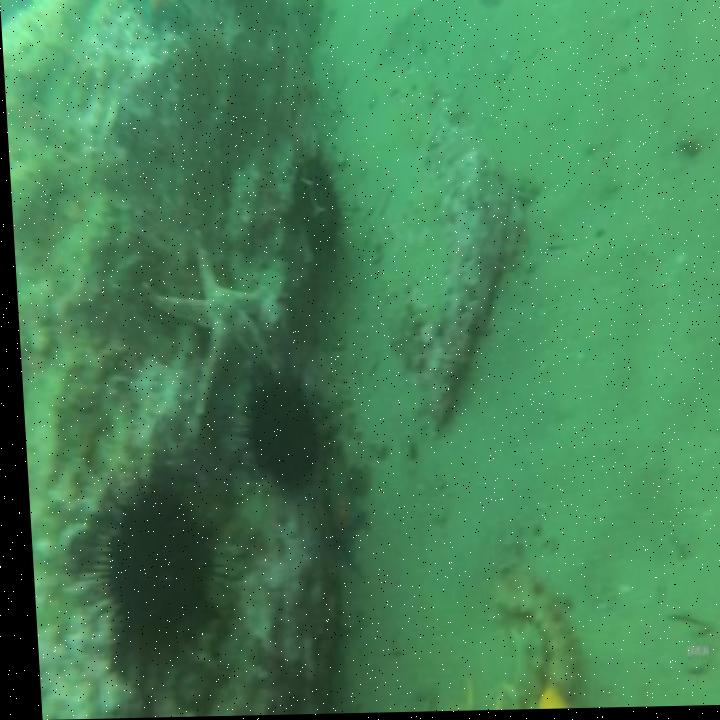echinus: (92, 482, 218, 660), (239, 370, 313, 492), (288, 150, 343, 269)
holothurian: (488, 569, 570, 712)
starfish: (131, 236, 283, 441)
